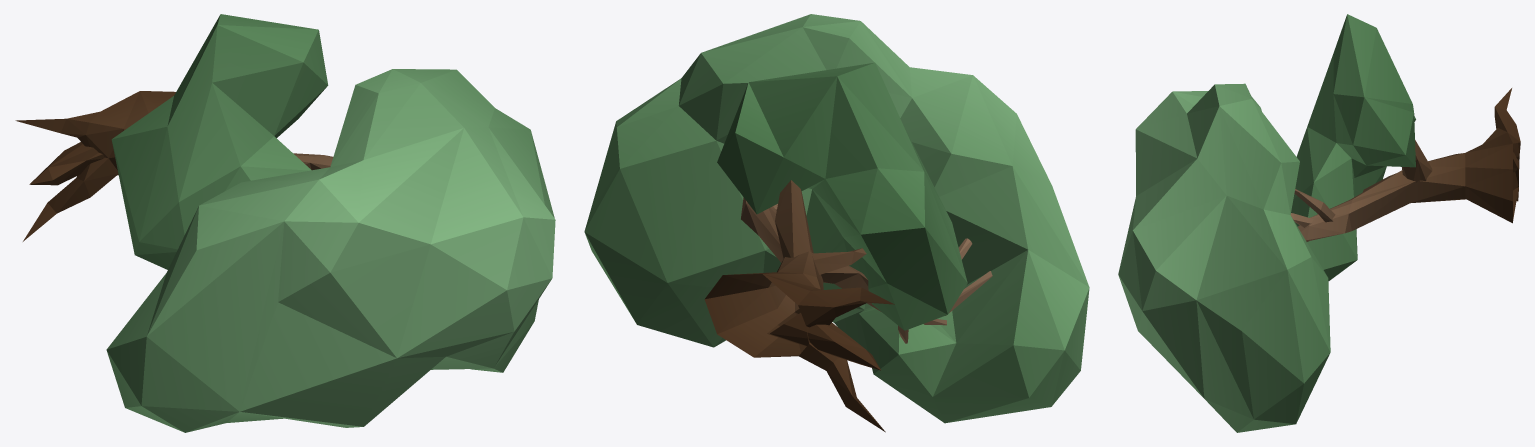
3 renders of one model, left to right at view 1: azimuth 30°, elevation 25°; view 2: azimuth 150°, elevation 25°; view 3: azimuth 270°, elevation 25°, orthographic. The views are drawn at different scales.
Visible parts, largest first — view 1: Arbol1_0; view 2: Arbol1_0; view 3: Arbol1_0.
Part boxes in pixels (x1,y1,x2,y2): Arbol1_0: [15, 14, 555, 432]; Arbol1_0: [584, 14, 1089, 432]; Arbol1_0: [1118, 14, 1520, 432].
Bounding box in the file's own units: 1079 × 860 × 953.
Materials: 1 (1 with a texture image).
